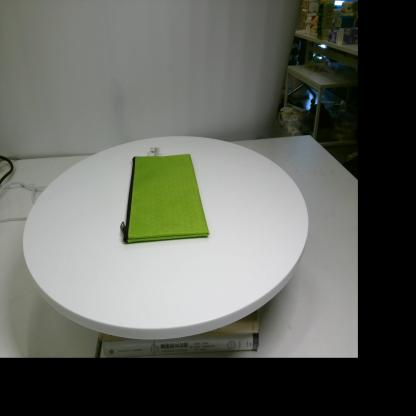Stationery: (120, 148, 210, 244)
